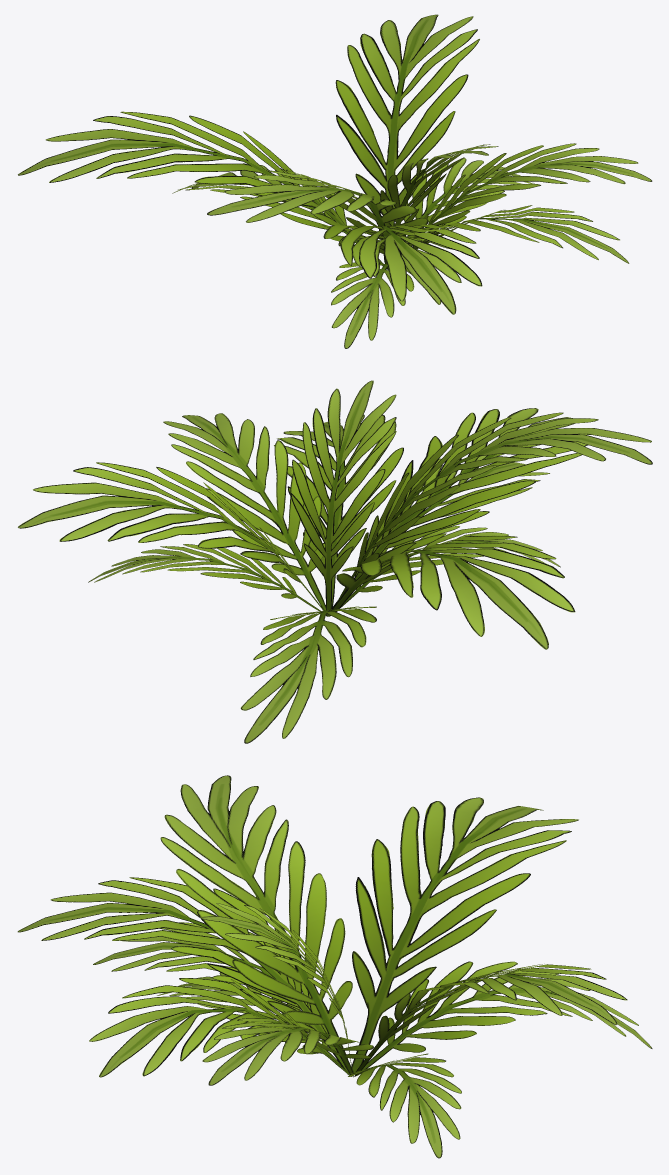
Rendered from Moonset_FBX_foliage_02.fbx.
3 views of the same model, one above another, from view 1: azimuth 30°, elevation 25°; view 2: azimuth 150°, elevation 25°; view 3: azimuth 270°, elevation 25° (orthographic). The views are drawn at different scales.
Parts seen in each view (by area): view 1: Foliage_02; view 2: Foliage_02; view 3: Foliage_02.
Part boxes in pixels (x1,y1,x2,y2): Foliage_02: (18,14,652,348); Foliage_02: (18,380,652,743); Foliage_02: (17,775,652,1158).
Size of the model in its own units: 3.61 by 1.18 by 3.71.
